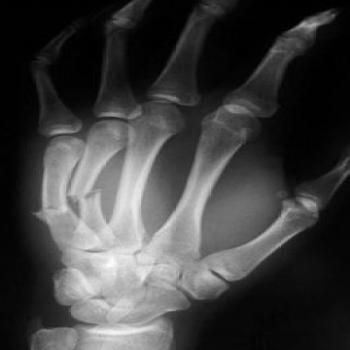Fracture: (75, 179, 112, 208), (30, 200, 67, 222)
